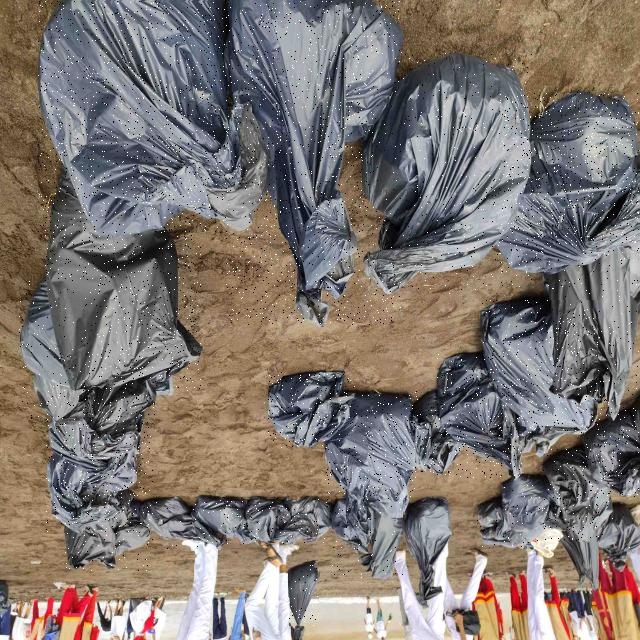plastic: (227, 0, 402, 325), (39, 1, 267, 235), (364, 53, 532, 294), (45, 167, 201, 391), (499, 92, 639, 272), (544, 244, 639, 419), (47, 380, 154, 533), (482, 300, 598, 433), (326, 394, 416, 518), (438, 354, 523, 478), (19, 281, 84, 422), (47, 455, 136, 534), (65, 492, 150, 570), (268, 372, 355, 447), (544, 449, 614, 541), (193, 498, 331, 544), (332, 497, 403, 579), (404, 499, 452, 608), (584, 405, 640, 496), (69, 379, 155, 436), (412, 391, 463, 475), (140, 498, 225, 548), (478, 499, 544, 548), (192, 497, 254, 544), (503, 476, 552, 532), (600, 506, 639, 572), (245, 498, 290, 542), (288, 563, 319, 625)
